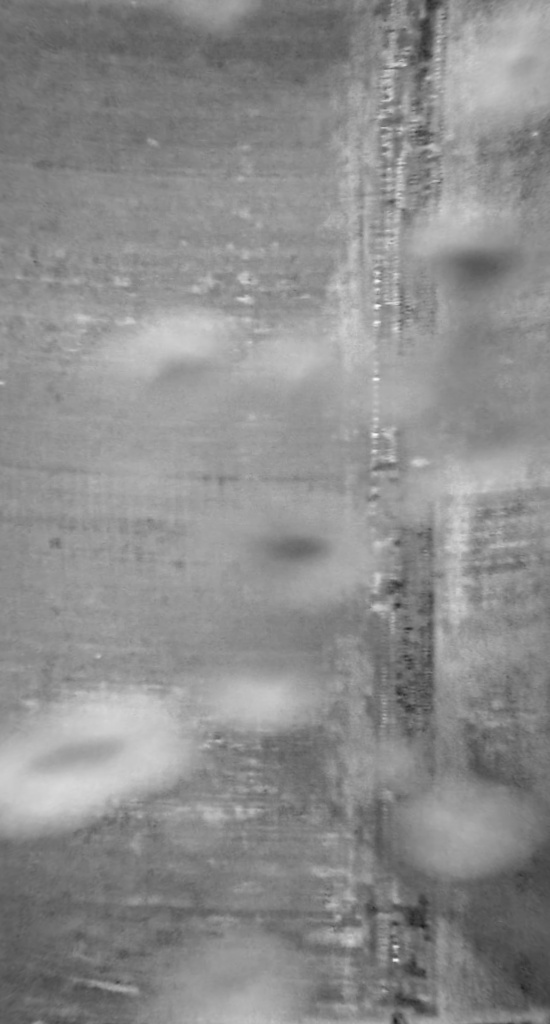splice: (353, 2, 450, 1024)
